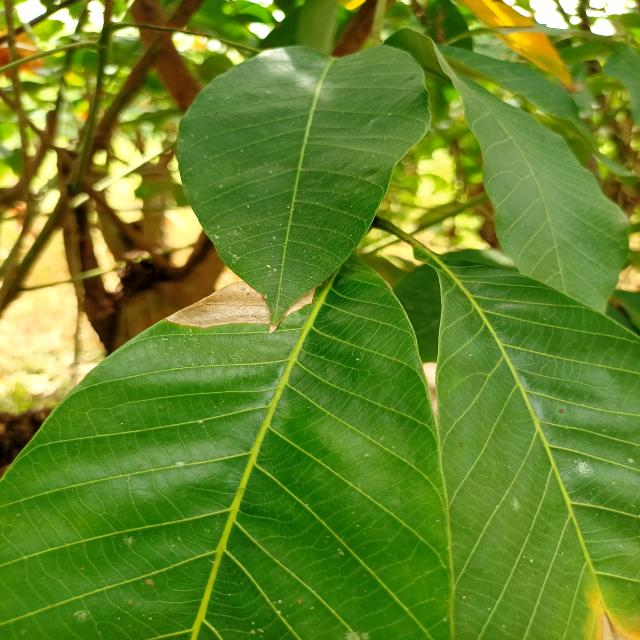Colletotrichum: (558, 408, 564, 414), (459, 442, 463, 448), (350, 266, 354, 268)
Leaf-Blight: (165, 281, 272, 328), (280, 282, 324, 322), (600, 610, 632, 640), (268, 324, 277, 334)
